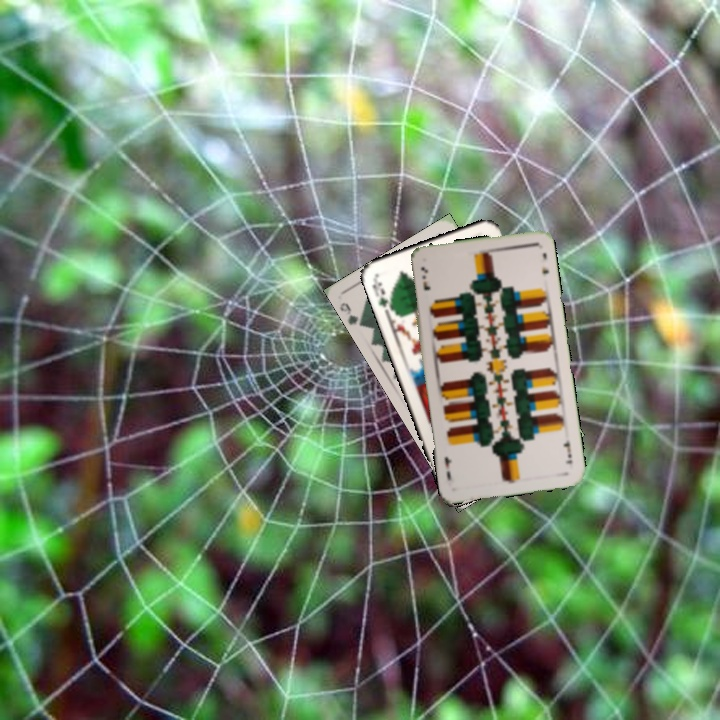E7: (559, 435, 575, 467), (416, 263, 433, 293)
G9: (336, 298, 368, 329)
GK: (368, 275, 397, 315)
